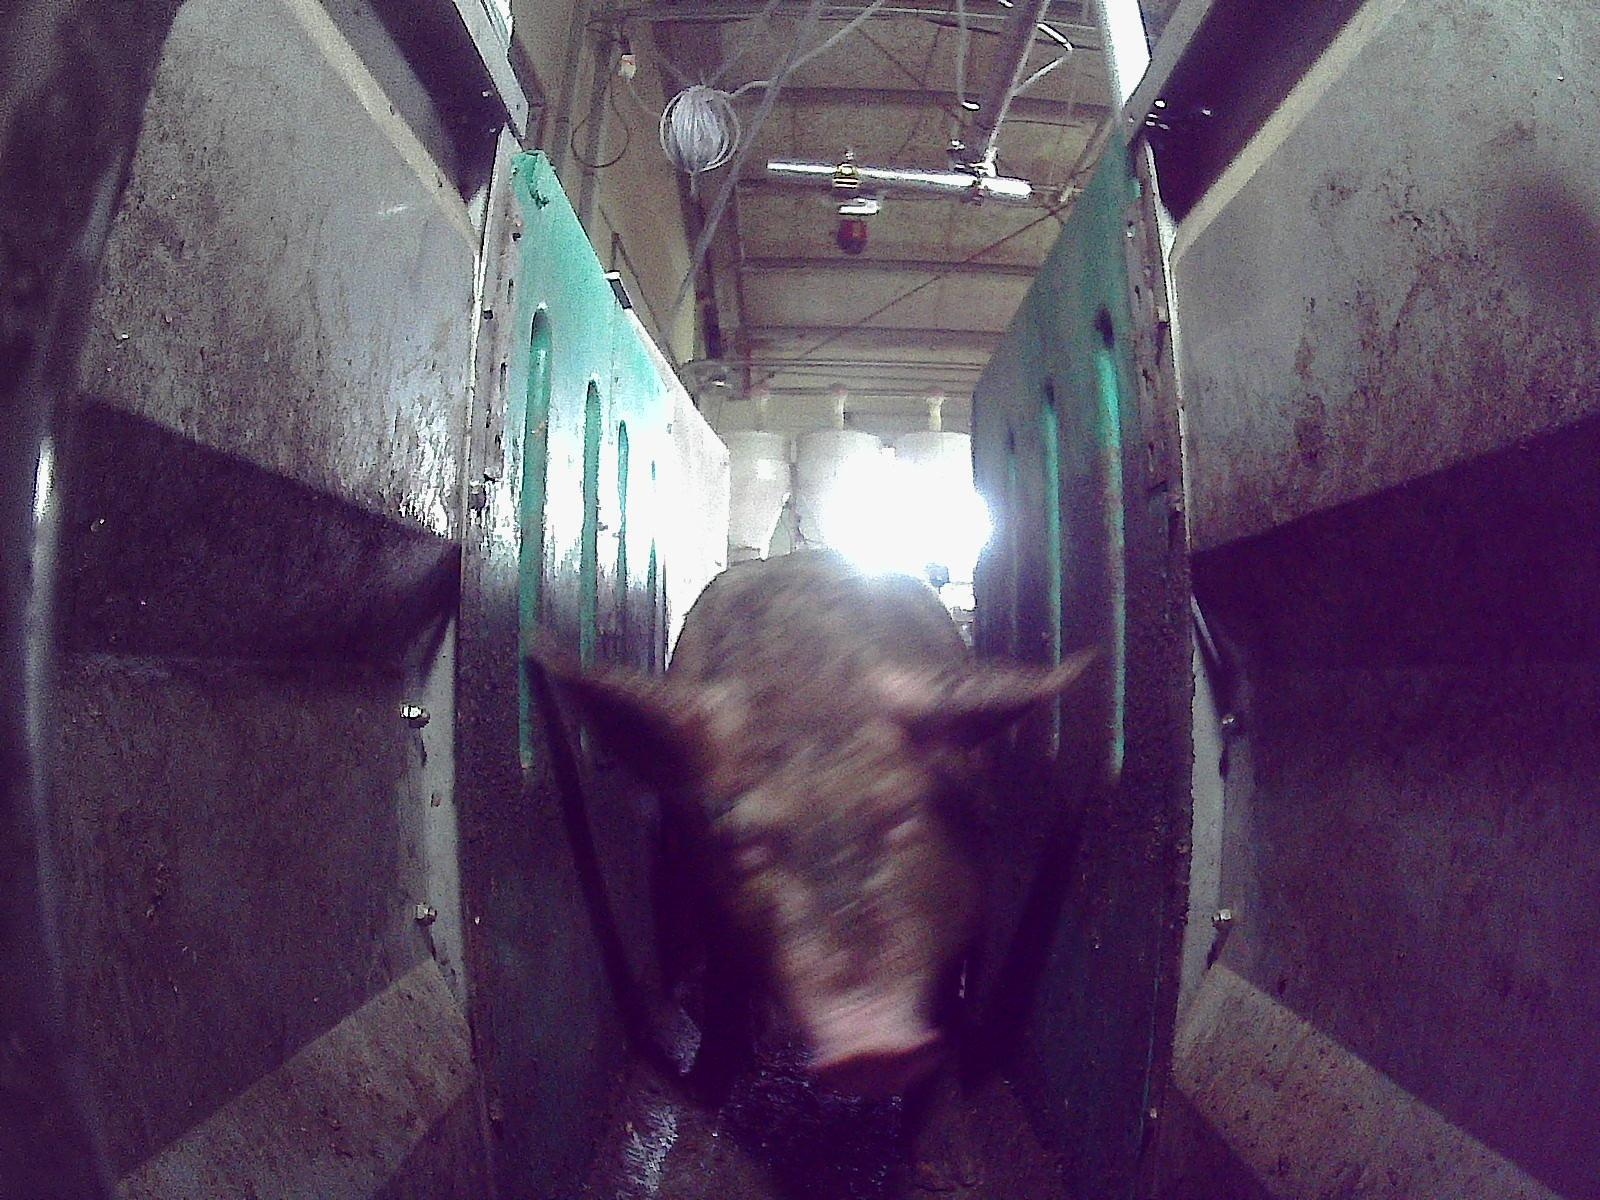Face: (680, 670, 955, 1091)
